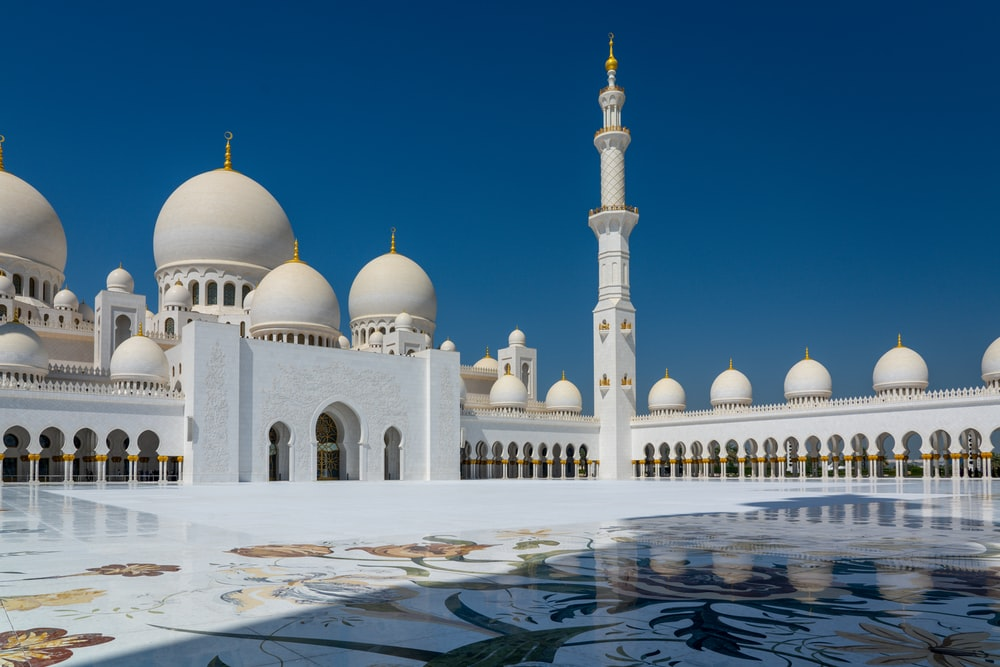Mosque: (5, 74, 1000, 482)
